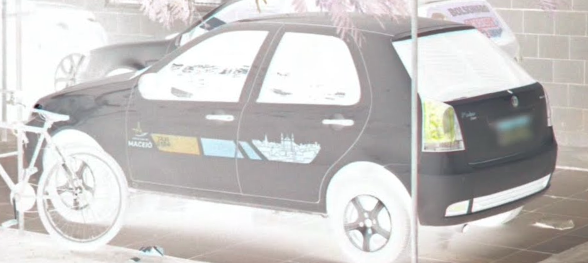car: (28, 11, 559, 259)
